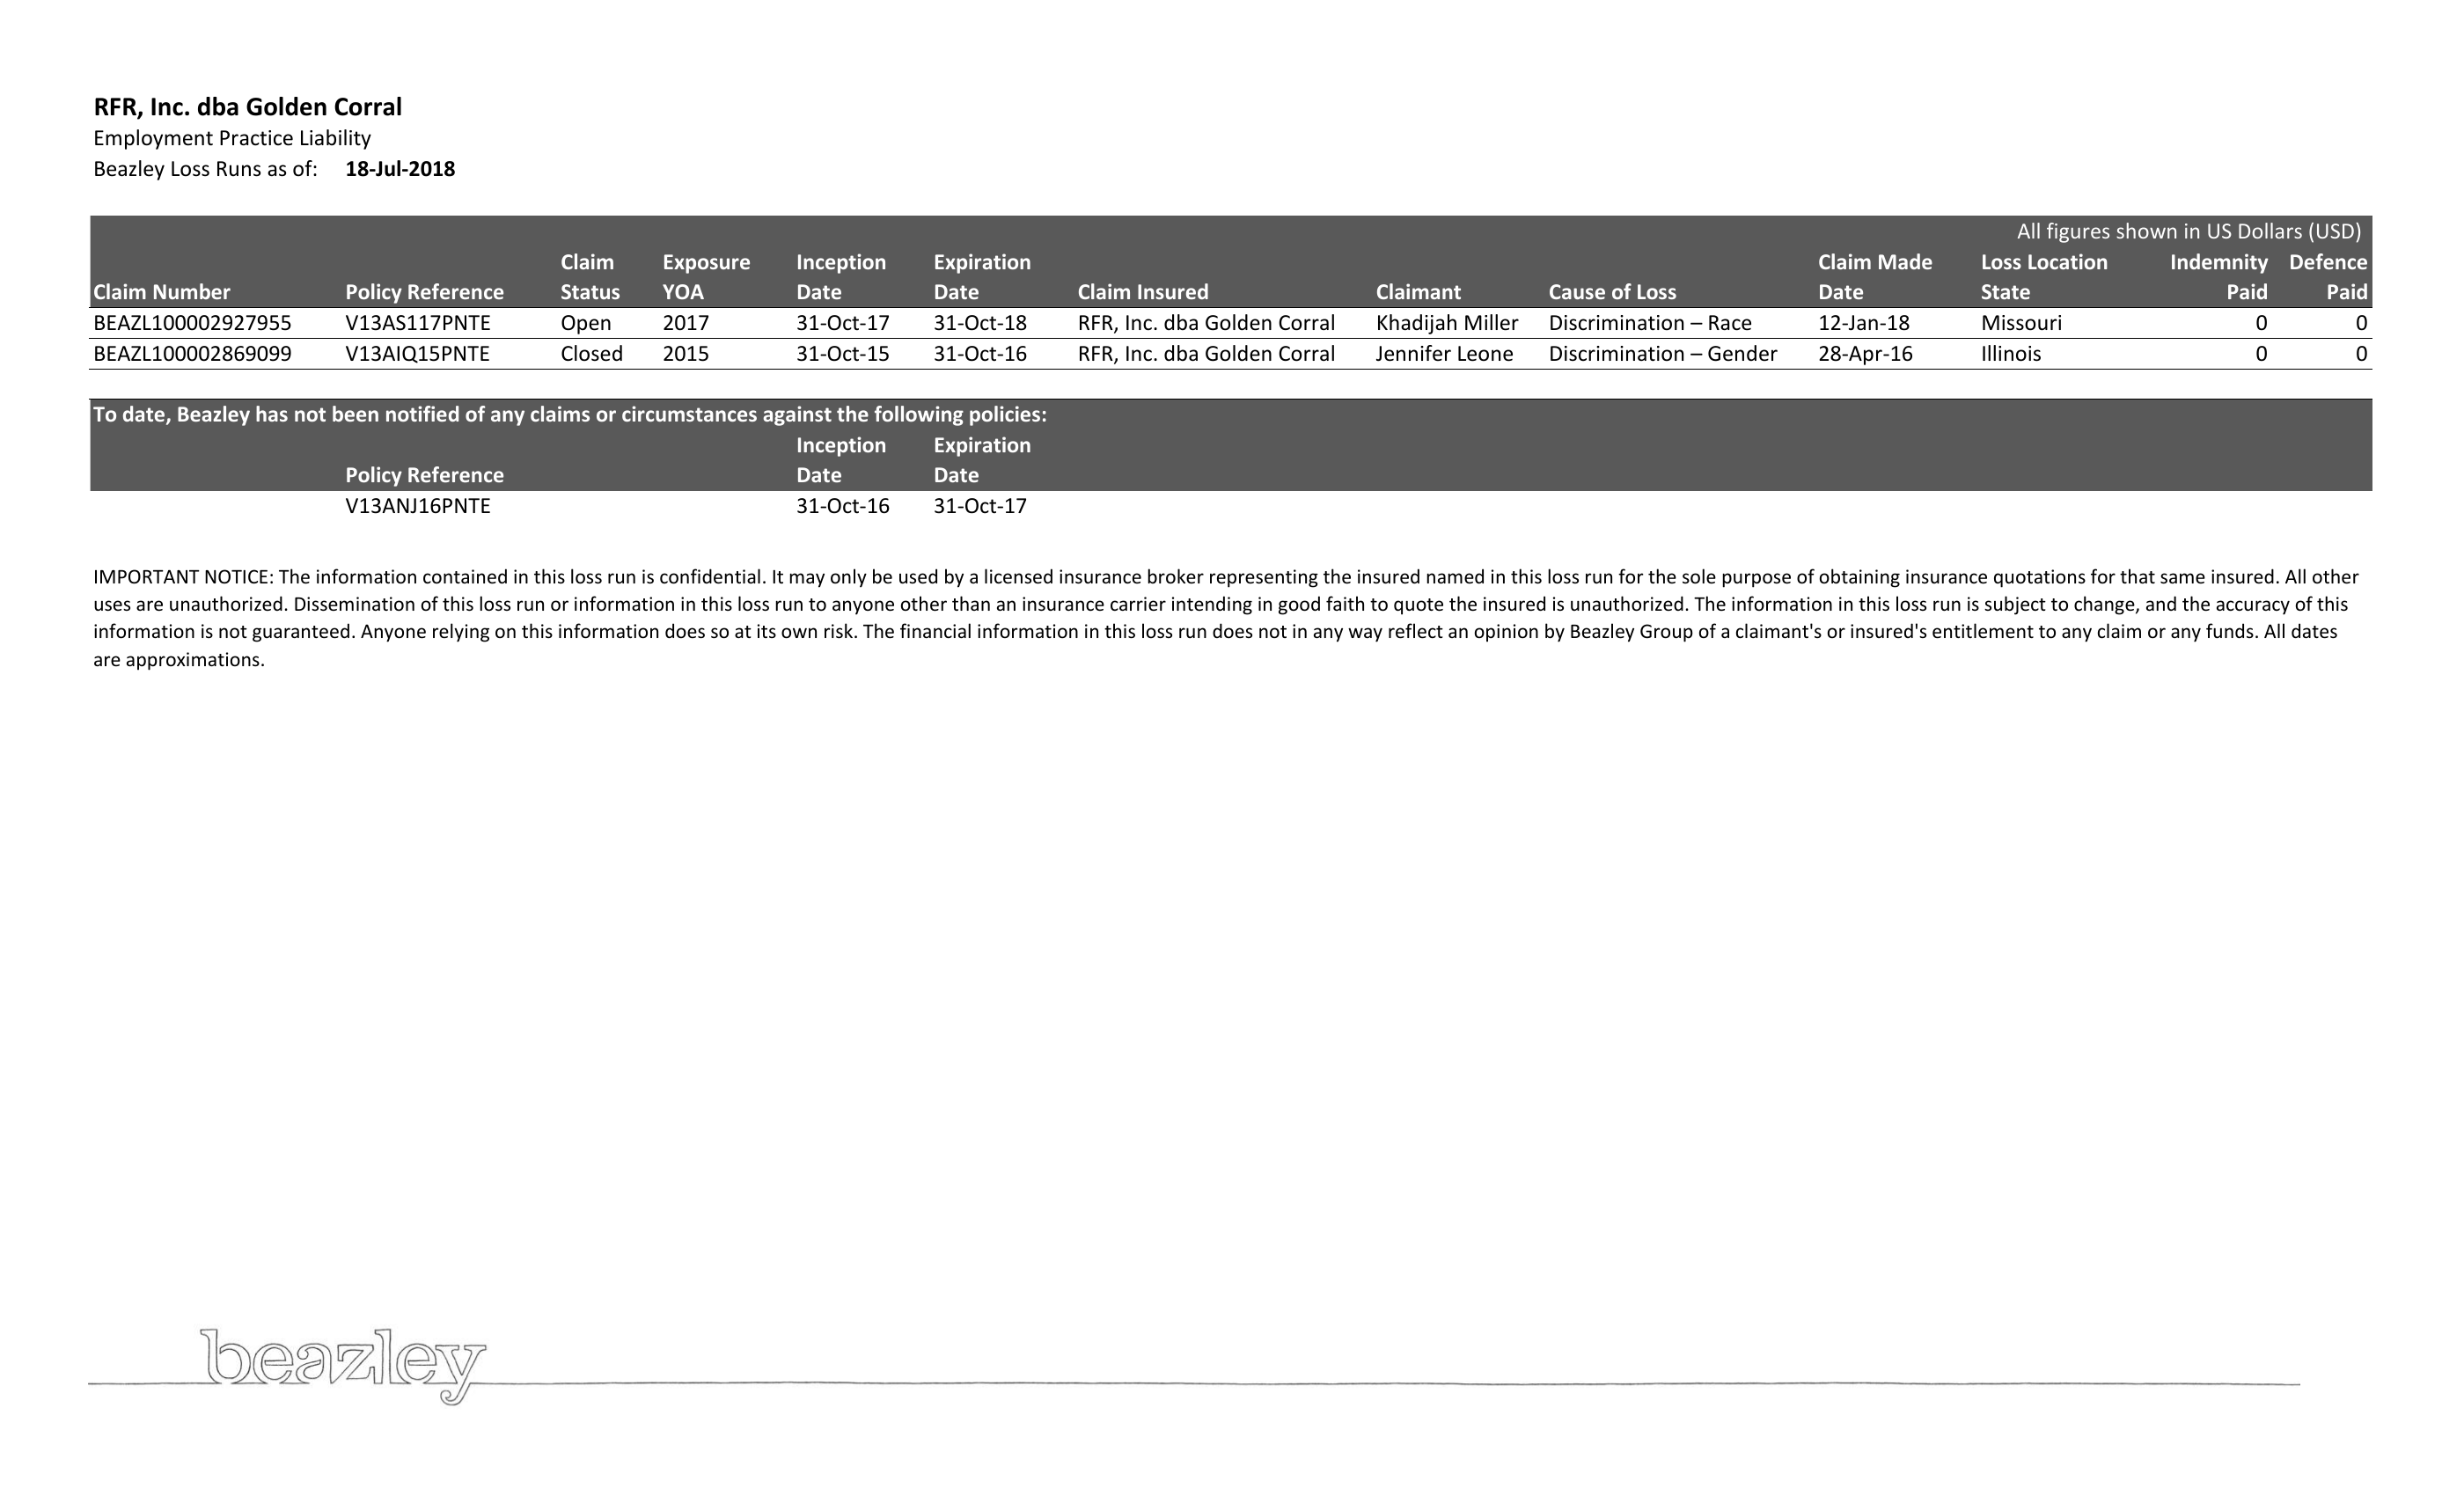No-loss: (77, 391, 2387, 553)
others: (81, 197, 2383, 391)
